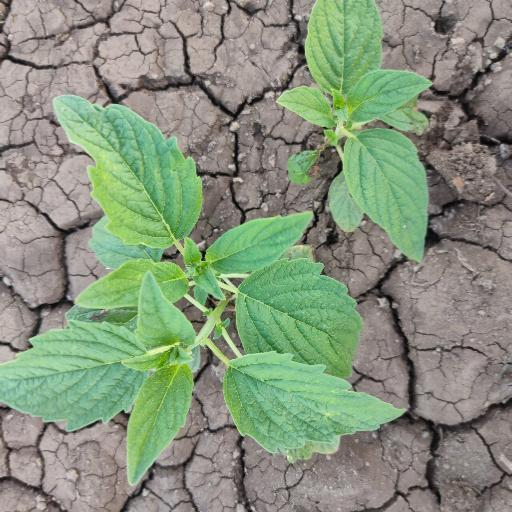crop: (1, 89, 411, 473), (176, 2, 512, 270)
